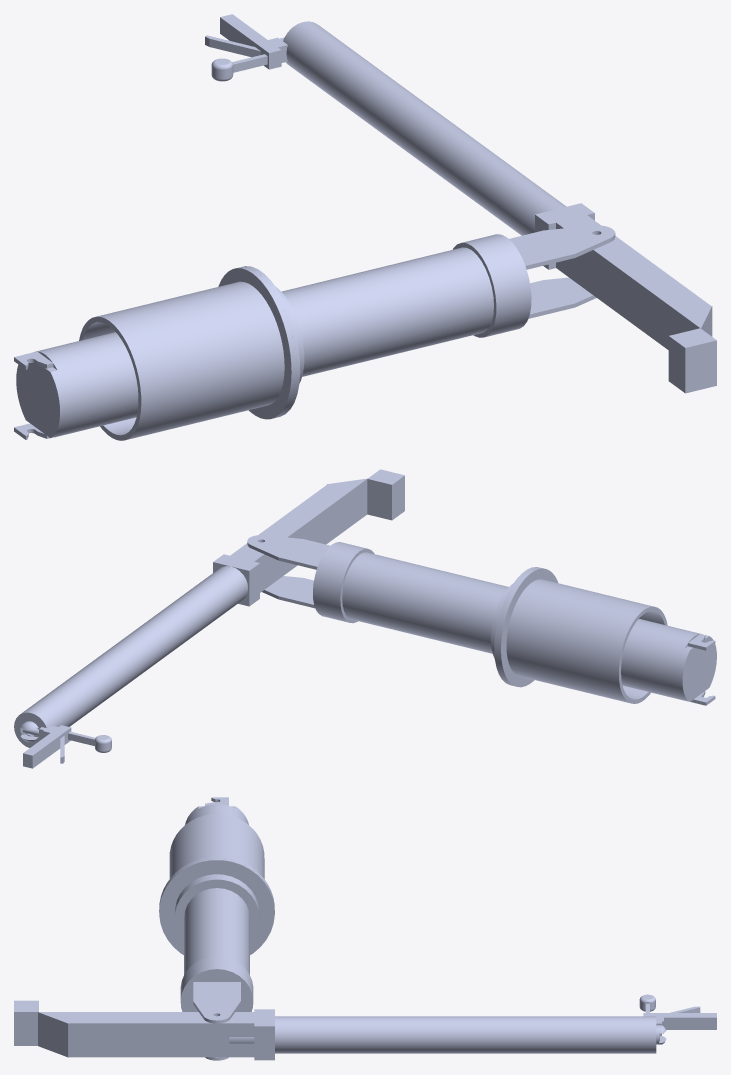
Rendered from MSM_master.obj.
The picture shows the model from 3 angles, top to bottom: view 1: azimuth 30°, elevation 25°; view 2: azimuth 150°, elevation 25°; view 3: azimuth 270°, elevation 25°; orthographic projection. The views are drawn at different scales.
Parts seen in each view (by area): view 1: 3DGeom-1; view 2: 3DGeom-1; view 3: 3DGeom-1.
Boxes of the visible parts, x1,y1,x2,y2 form: 3DGeom-1: [14, 14, 716, 440]; 3DGeom-1: [14, 469, 716, 768]; 3DGeom-1: [14, 797, 716, 1060].
Size of the model in its own units: 1.52 by 0.34 by 2.06.
